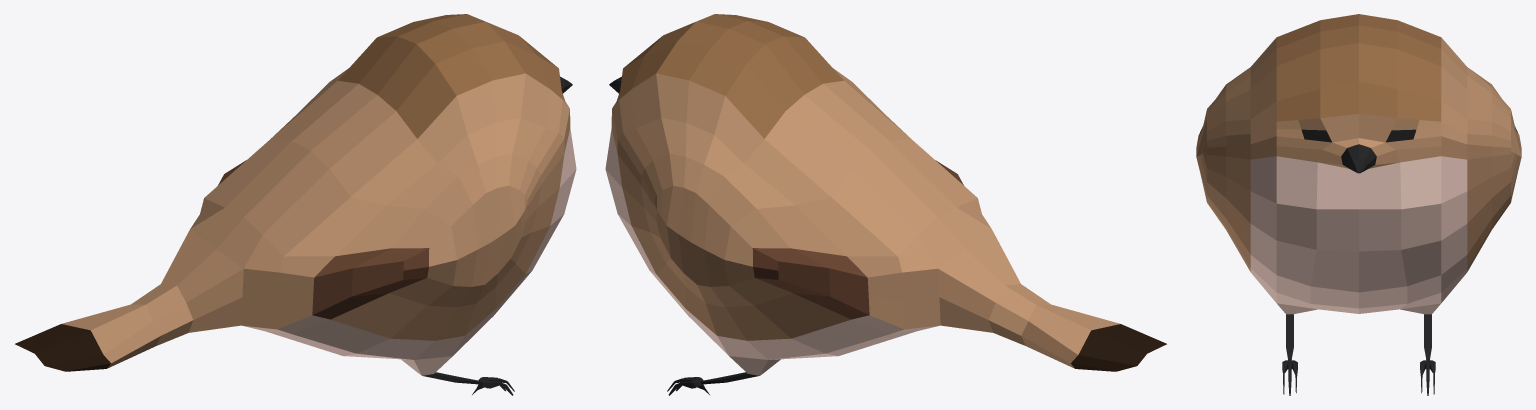
The model's file is bushtit.glb.
3 renders of one model, left to right at view 1: azimuth 30°, elevation 25°; view 2: azimuth 150°, elevation 25°; view 3: azimuth 270°, elevation 25°, orthographic. The views are drawn at different scales.
Parts seen in each view (by area): view 1: Plane.001; view 2: Plane.001; view 3: Plane.001.
Part boxes in pixels (x1=…): Plane.001: x1=15, y1=14, x2=576, y2=395; Plane.001: x1=605, y1=14, x2=1166, y2=395; Plane.001: x1=1196, y1=14, x2=1521, y2=395.
Size of the model in its own units: 2.84 by 1.73 by 1.43.
1 material, 1 textured.
